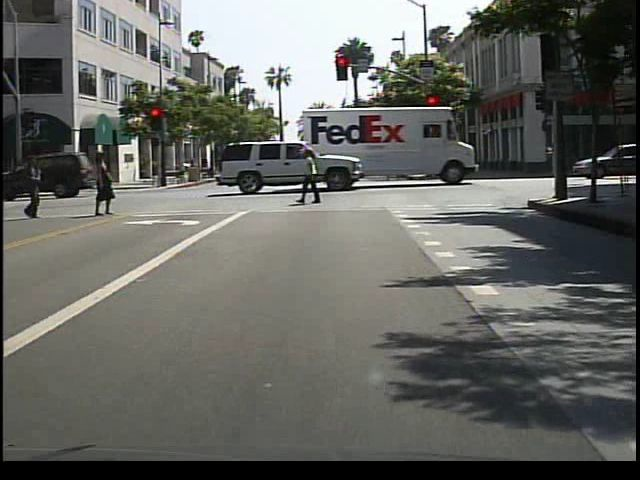person: (20, 153, 54, 221), (88, 151, 121, 219), (300, 146, 331, 206)
